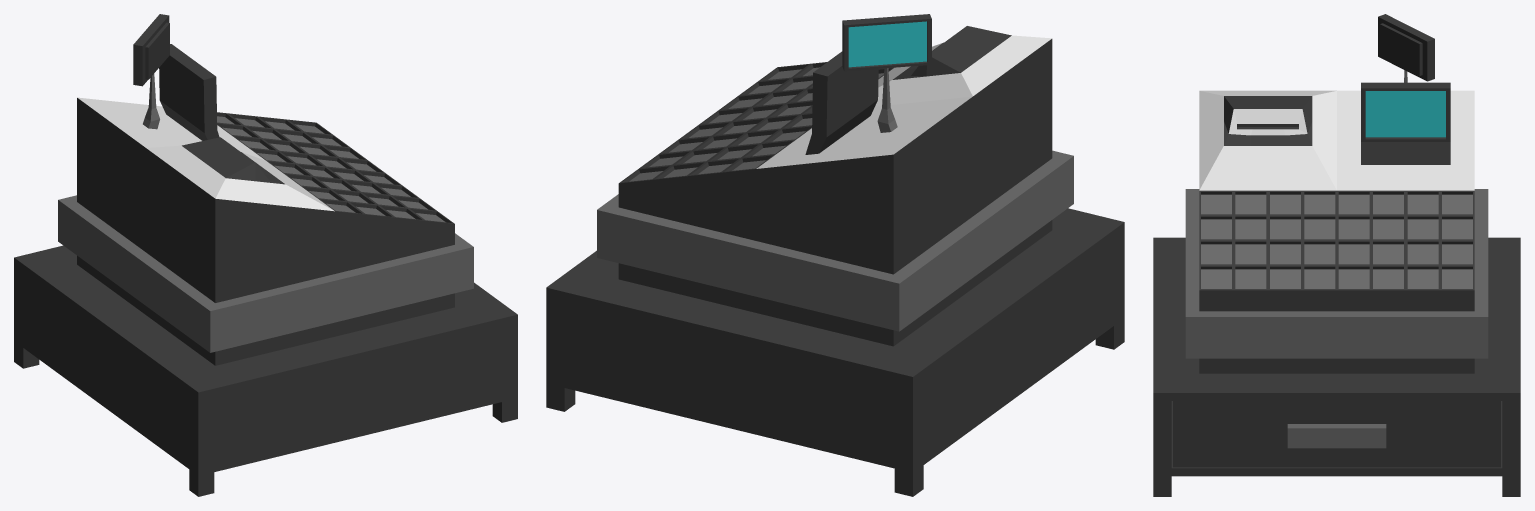
The model's file is Register.fbx.
The picture shows the model from 3 angles, left to right: view 1: azimuth 30°, elevation 25°; view 2: azimuth 150°, elevation 25°; view 3: azimuth 270°, elevation 25°; orthographic projection. The views are drawn at different scales.
Parts seen in each view (by area): view 1: Register, Register Customer Screen; view 2: Register, Register Customer Screen; view 3: Register, Register Draw, Register Customer Screen.
Boxes of the visible parts, x1,y1,x2,y2 form: Register: (14,44,517,496); Register Customer Screen: (133,14,169,86); Register: (546,26,1124,496); Register Customer Screen: (842,14,931,71); Register: (1153,70,1520,496); Register Draw: (1173,401,1500,467); Register Customer Screen: (1378,14,1434,81).
Size of the model in its own units: 164 by 170 by 160.
